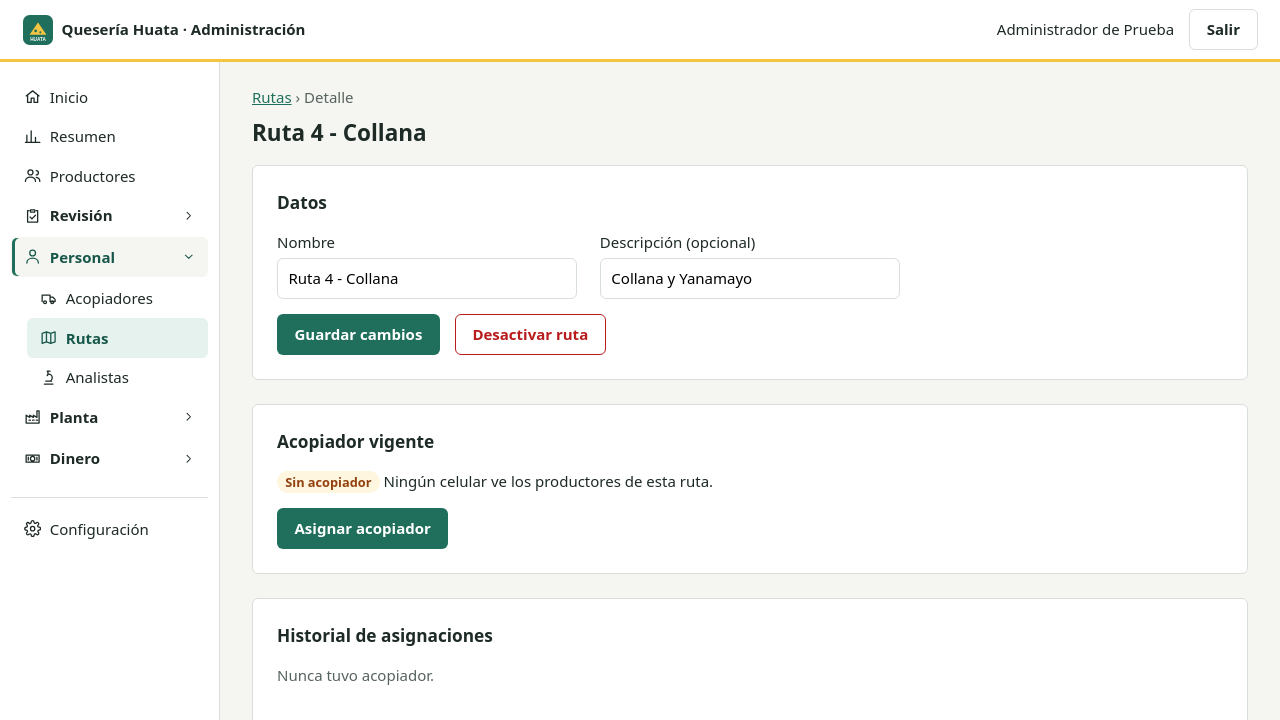
detalle de la ruta › desactivar una ruta sin acopiador no habla de ningún celular que la pierda
Click the button "Desactivar ruta" at {"x": 530, "y": 334}, box [455,314,606,355]
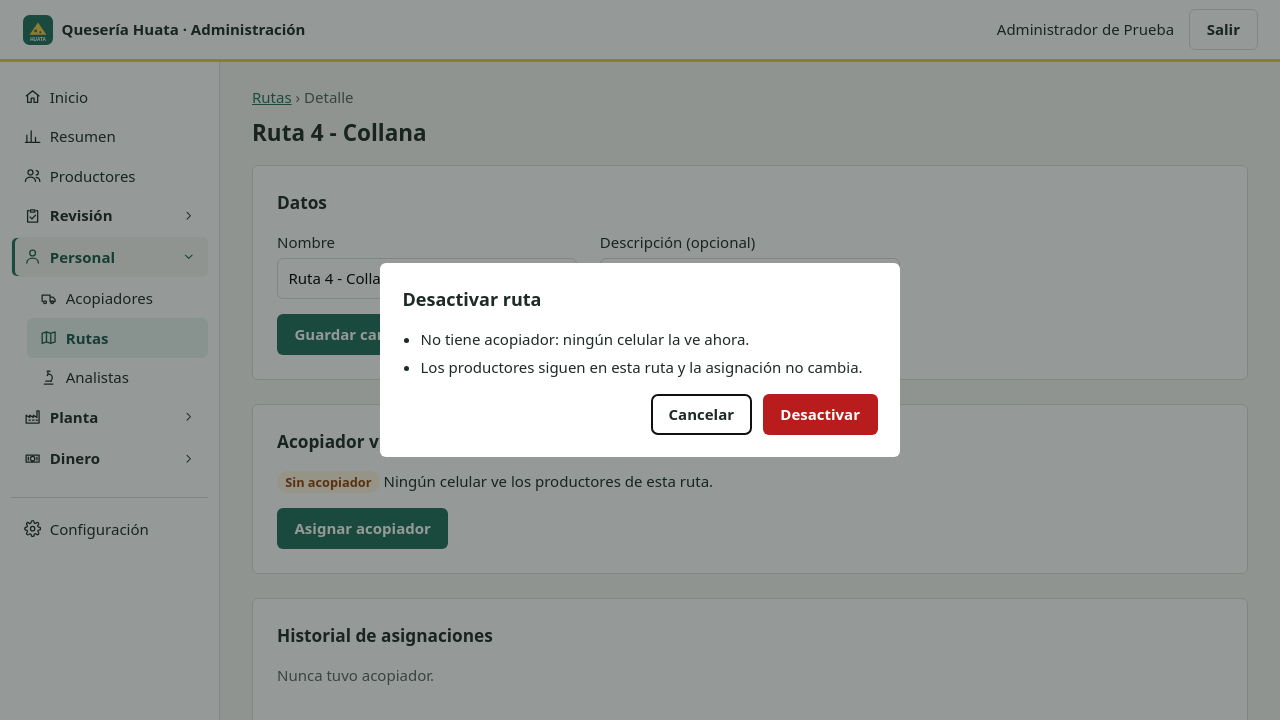
Expected: the dialog "Desactivar ruta" does not show "deja de verla", [380,263,900,457]
Expected: the dialog "Desactivar ruta" shows "No tiene acopiador: ningún celular la ve ahora.", [420,328,749,348]
